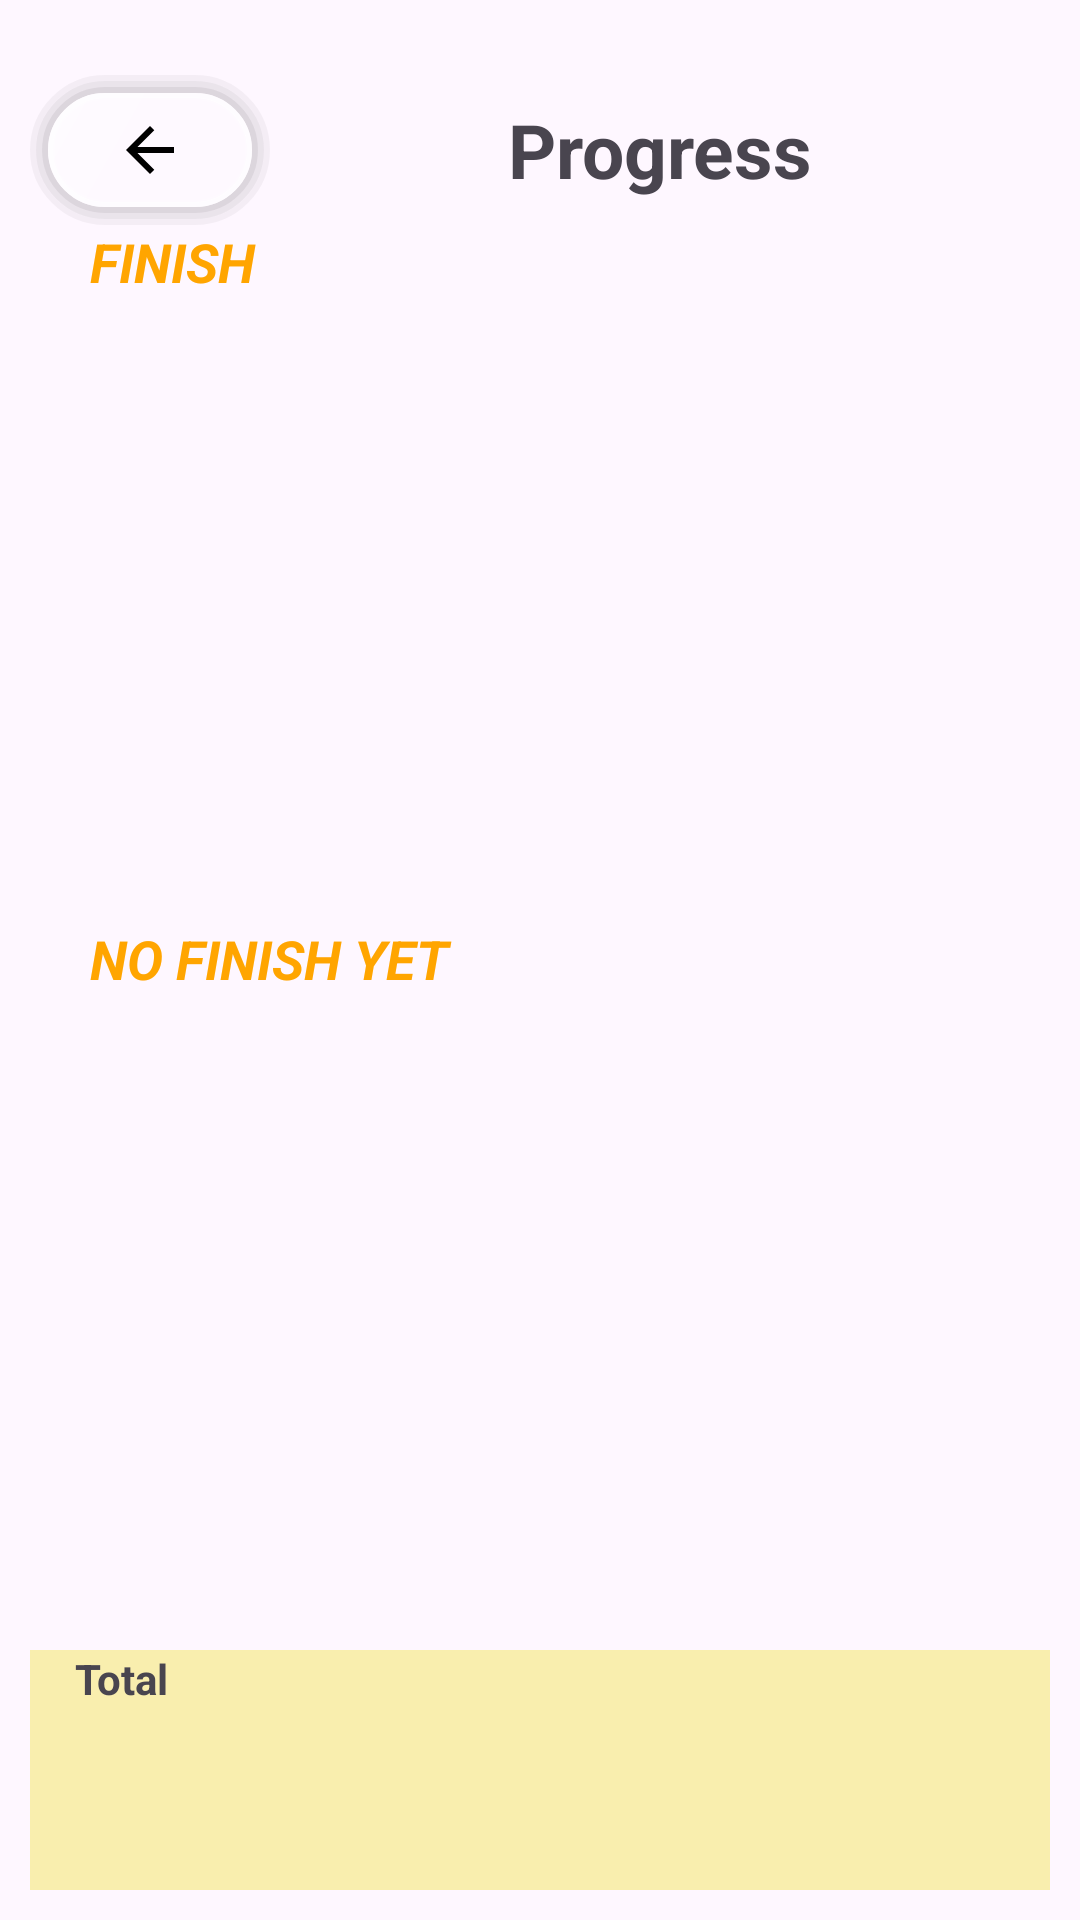

Named icons in this screenshot (1080x1920) and their centers, (x=x, y=y):
arrow back: (x=150, y=150)
